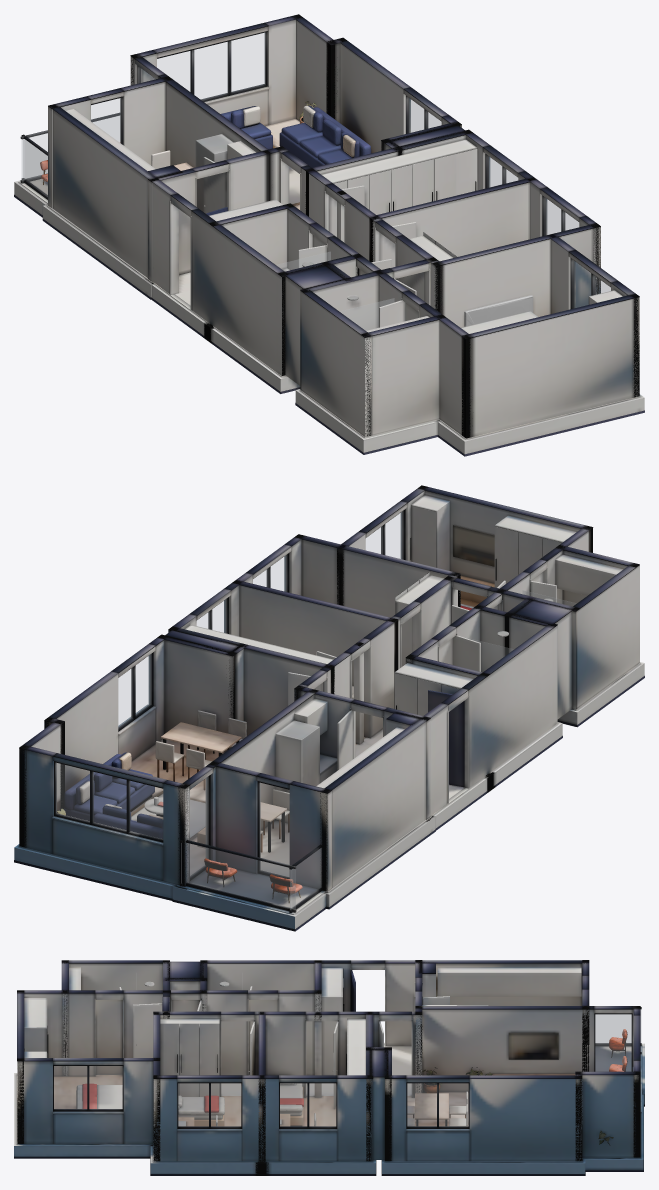
The picture shows the model from 3 angles, top to bottom: view 1: azimuth 30°, elevation 25°; view 2: azimuth 150°, elevation 25°; view 3: azimuth 270°, elevation 25°; orthographic projection. The views are drawn at different scales.
Parts seen in each view (by area): view 1: plan, glass2_m, railg0_m, railg3_m, glass0_m, glass6_m, sg.001_m, glass5_m; view 2: plan, glass2_m, railg0_m, glass0_m, glass3_m, glass1_m, railg3_m, glass6_m, glass5_m; view 3: plan, glass6_m, glass5_m, glass3_m, glass4_m, glass1_m, railg3_m.
Part boxes in pixels (x1,y1,x2,y2): plan: (14, 14, 644, 456); glass2_m: (157, 33, 265, 99); railg0_m: (21, 116, 119, 179); railg3_m: (23, 139, 47, 195); glass0_m: (91, 98, 120, 142); glass6_m: (573, 260, 610, 308); sg.001_m: (340, 298, 394, 330); glass5_m: (544, 197, 578, 235); plan: (14, 485, 644, 931); glass2_m: (56, 763, 162, 839); railg0_m: (187, 843, 295, 909); glass0_m: (259, 783, 289, 877); glass3_m: (118, 654, 151, 727); glass1_m: (190, 777, 208, 876); railg3_m: (290, 848, 321, 909); glass6_m: (366, 511, 403, 558); glass5_m: (253, 555, 286, 591); plan: (14, 960, 644, 1175); glass6_m: (54, 1066, 122, 1109); glass5_m: (178, 1083, 240, 1126); glass3_m: (407, 1083, 468, 1126); glass4_m: (280, 1083, 335, 1126); glass1_m: (595, 1014, 631, 1071); railg3_m: (596, 1010, 641, 1042).
Size of the model in its own units: 7.07 by 2.62 by 15.58.
2 materials, 1 textured.
